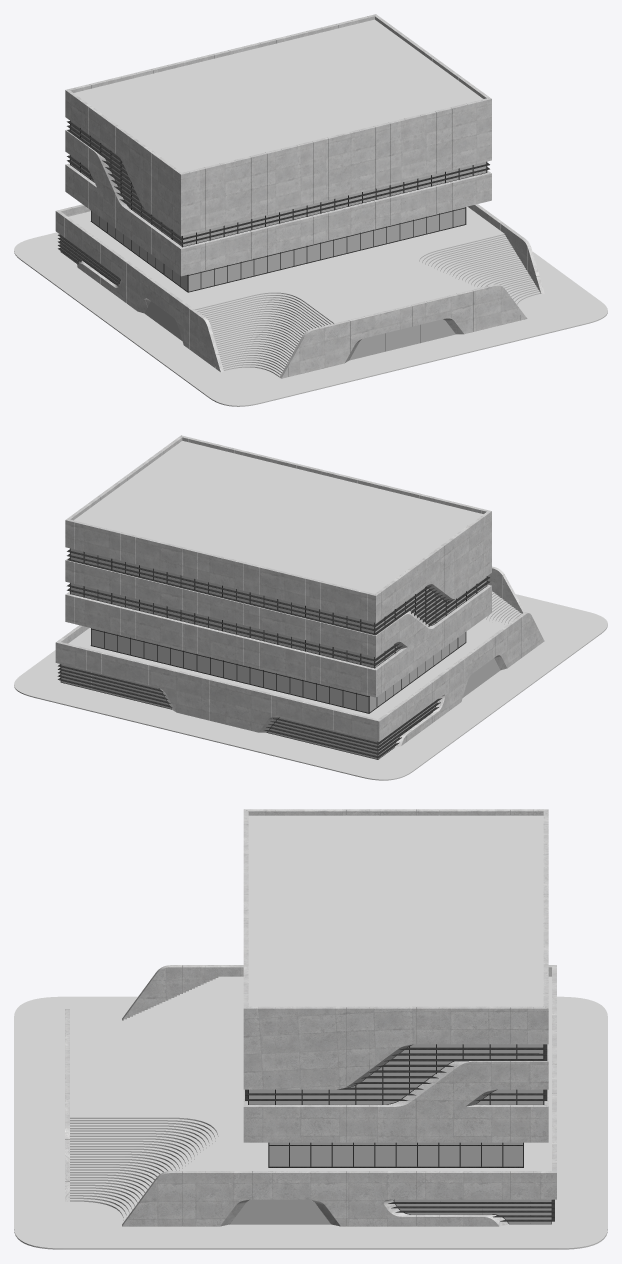
File: KB3D_UTP_BldgSM_A.fbx
3 renders of one model, top to bottom at view 1: azimuth 30°, elevation 25°; view 2: azimuth 150°, elevation 25°; view 3: azimuth 270°, elevation 25°, orthographic. The views are drawn at different scales.
Parts seen in each view (by area): view 1: KB3D_UTP_BldgSM_A_BuildingA, KB3D_UTP_BldgSM_A_Main, KB3D_UTP_BldgSM_A_Base; view 2: KB3D_UTP_BldgSM_A_BuildingA, KB3D_UTP_BldgSM_A_Main, KB3D_UTP_BldgSM_A_Base; view 3: KB3D_UTP_BldgSM_A_BuildingA, KB3D_UTP_BldgSM_A_Main, KB3D_UTP_BldgSM_A_Base.
Part boxes in pixels (<box>): KB3D_UTP_BldgSM_A_BuildingA: <box>65,14,491,292</box>; KB3D_UTP_BldgSM_A_Main: <box>55,204,544,378</box>; KB3D_UTP_BldgSM_A_Base: <box>14,232,607,406</box>; KB3D_UTP_BldgSM_A_BuildingA: <box>65,435,491,713</box>; KB3D_UTP_BldgSM_A_Main: <box>55,566,544,759</box>; KB3D_UTP_BldgSM_A_Base: <box>14,594,607,780</box>; KB3D_UTP_BldgSM_A_BuildingA: <box>243,809,548,1167</box>; KB3D_UTP_BldgSM_A_Main: <box>65,965,556,1226</box>; KB3D_UTP_BldgSM_A_Base: <box>14,996,607,1249</box>.
Size of the model in its own units: 6054 by 2410 by 6036.
